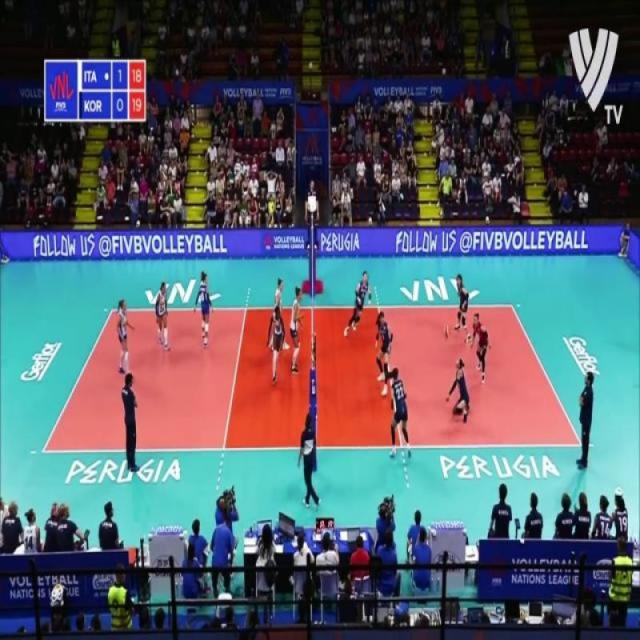volleyball: (443, 323, 451, 342)
